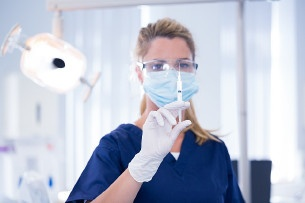Mask: (141, 53, 198, 110)
